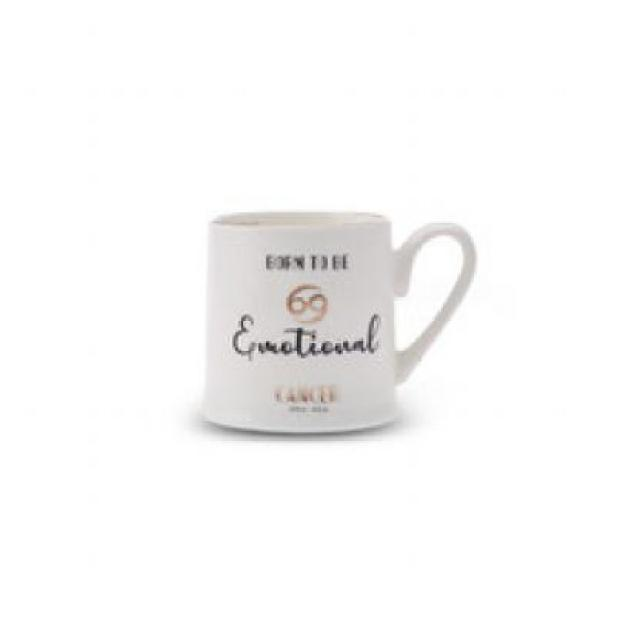taza: (210, 209, 478, 447)
